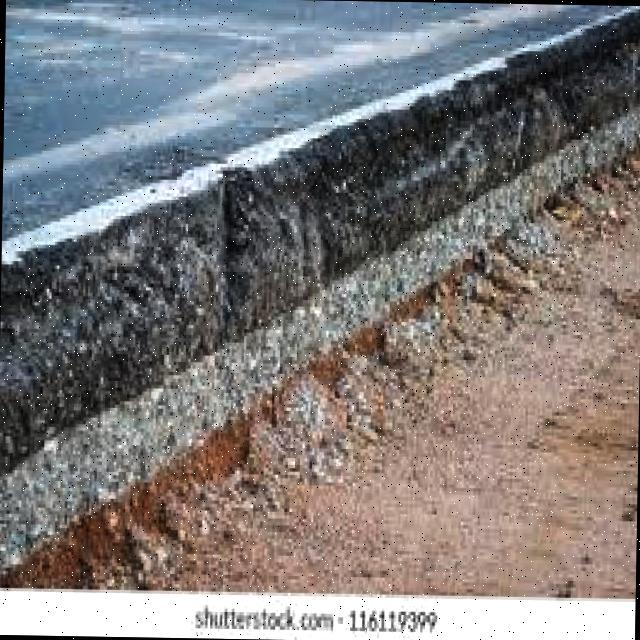curb: (1, 18, 640, 573)
